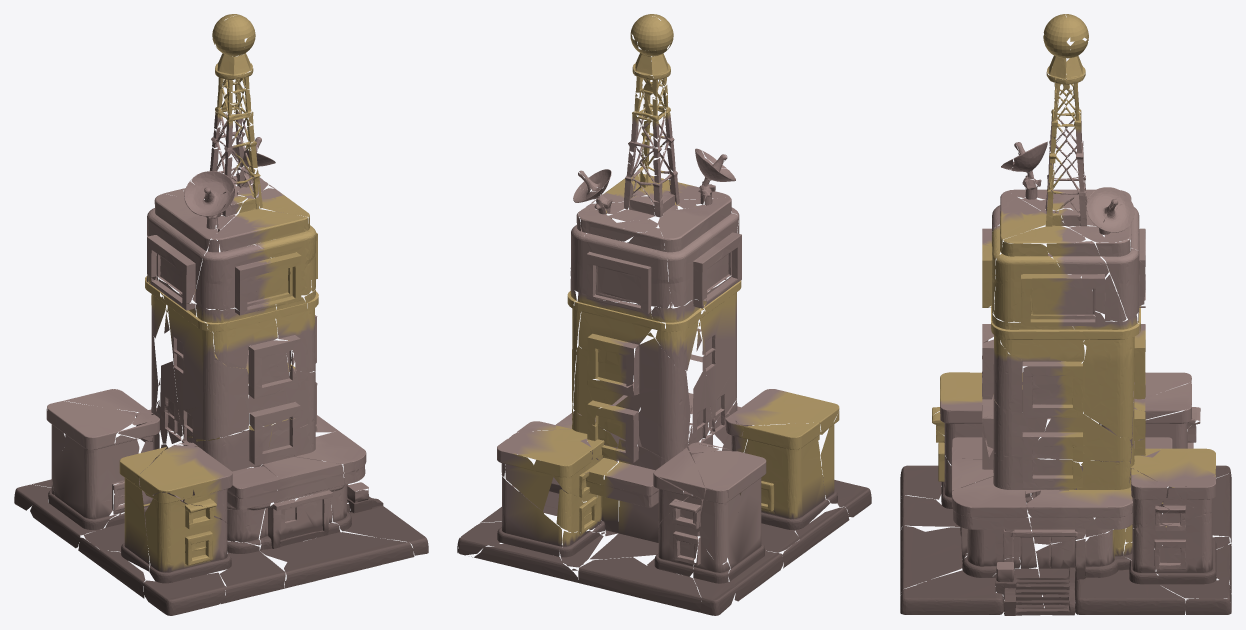
File: hero-news-tower.glb
The picture shows the model from 3 angles, left to right: view 1: azimuth 30°, elevation 25°; view 2: azimuth 150°, elevation 25°; view 3: azimuth 270°, elevation 25°; orthographic projection. The views are drawn at different scales.
Parts seen in each view (by area): view 1: world; view 2: world; view 3: world.
Boxes of the visible parts, bbox=[...] form: world: bbox=[14, 14, 428, 615]; world: bbox=[457, 14, 871, 615]; world: bbox=[900, 14, 1231, 615].
Size of the model in its own units: 2.63 by 4.83 by 2.7.
